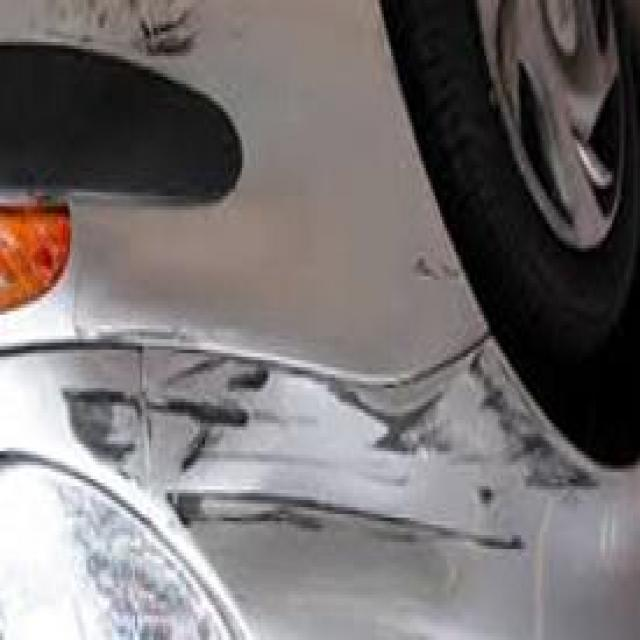scratch: (66, 312, 602, 576)
